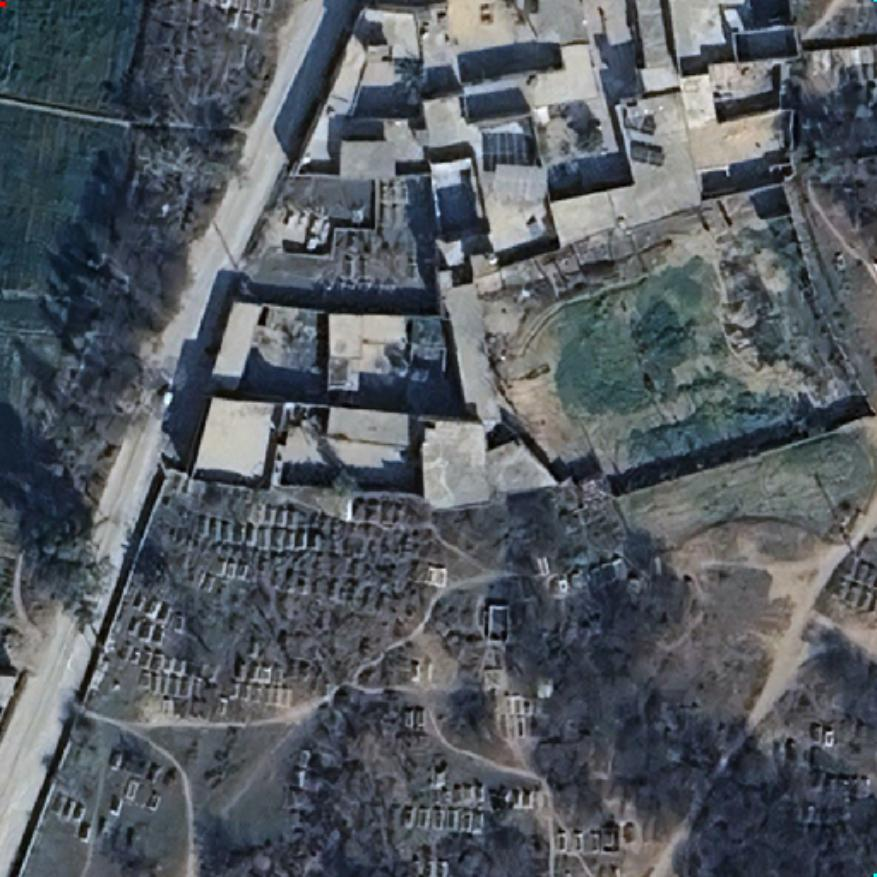Solarpanel: (478, 127, 534, 173), (627, 136, 669, 170)
